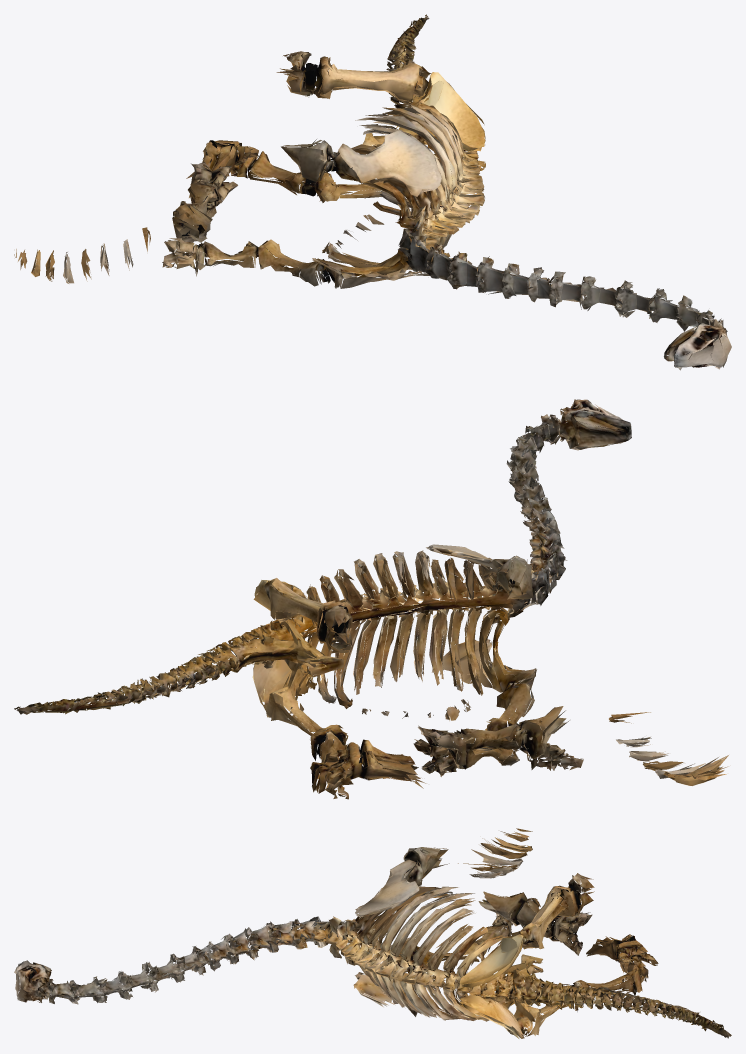
File: dino_a.glb
3 views of the same model, one above another, from view 1: azimuth 30°, elevation 25°; view 2: azimuth 150°, elevation 25°; view 3: azimuth 270°, elevation 25° (orthographic). The views are drawn at different scales.
Visible parts, largest first — view 1: dino_fossil.001; view 2: dino_fossil.001; view 3: dino_fossil.001.
Boxes of the visible parts, box(x1,y1,x2,y2) form: dino_fossil.001: box(14, 14, 731, 370); dino_fossil.001: box(14, 399, 728, 799); dino_fossil.001: box(14, 828, 731, 1038).
Bounding box in the file's own units: 6.98 × 1.88 × 9.41.
1 material, 1 textured.
